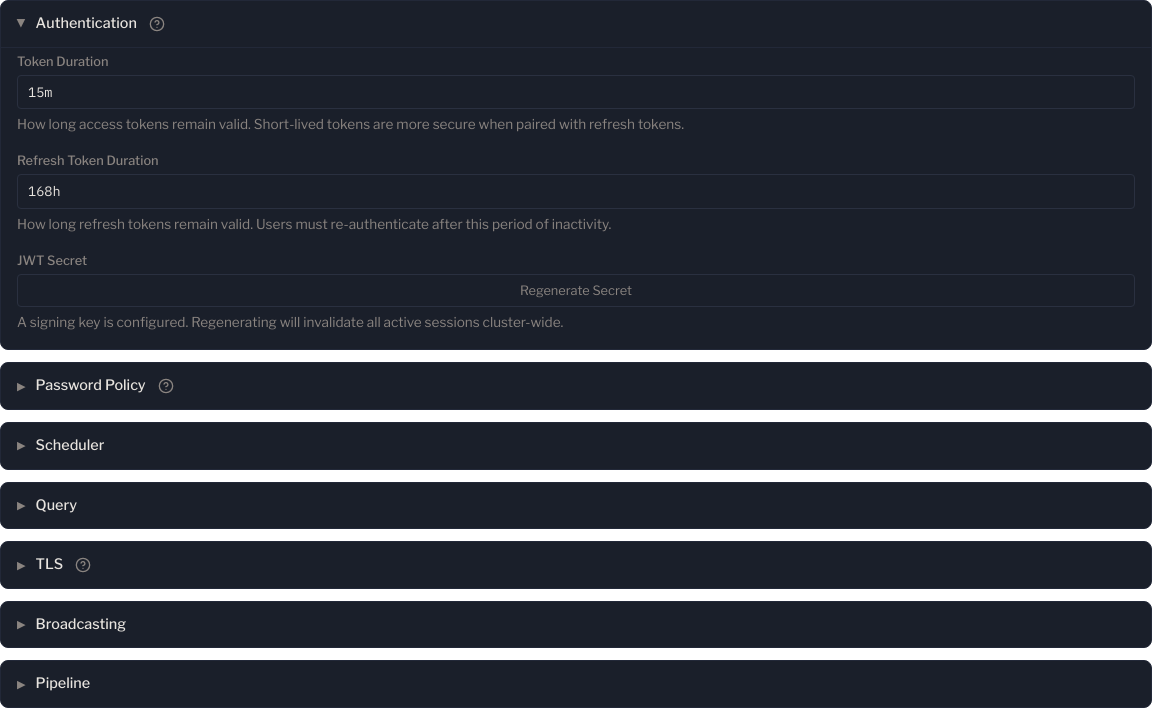
it: ServiceSettings › password policy fields visible when expanded
// Expand password policy
Click the text "Password Policy": (91, 386) [36, 375, 146, 397]
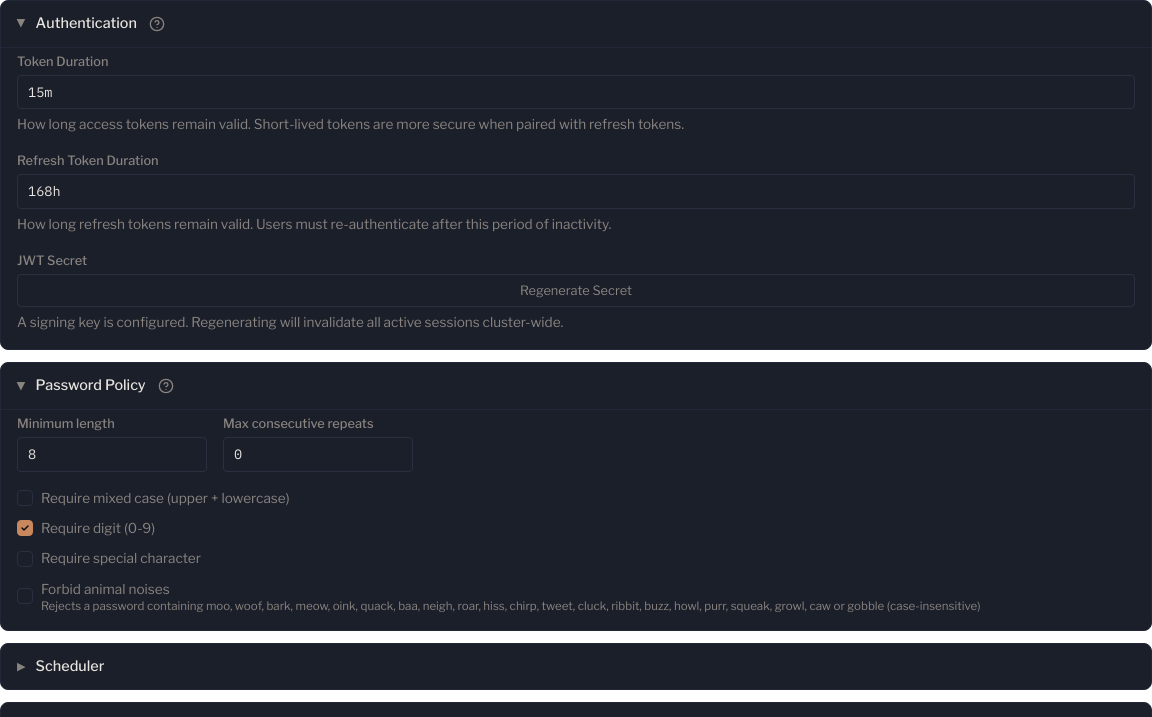
Expected: the text "Minimum length" is shown, [17, 414, 115, 433]
Expected: the text "Max consecutive repeats" is shown, [223, 414, 374, 433]
Expected: the text "Require mixed case (upper + lowercase)" is shown, [41, 488, 290, 508]
